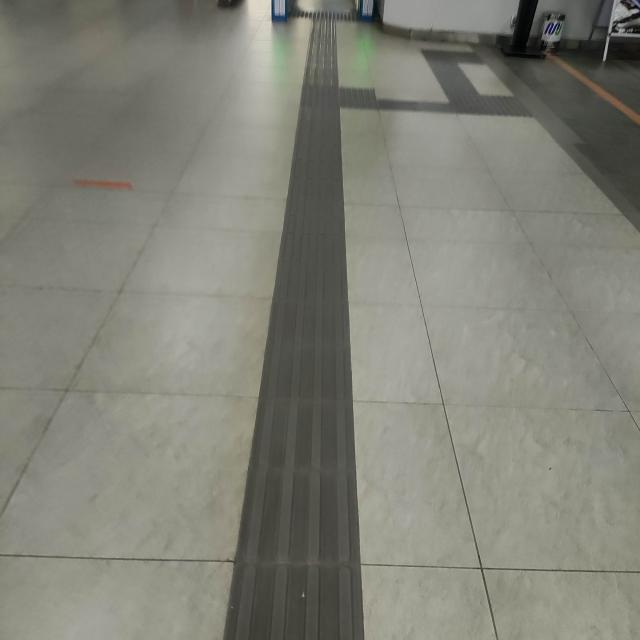lurus: (244, 89, 370, 640)
